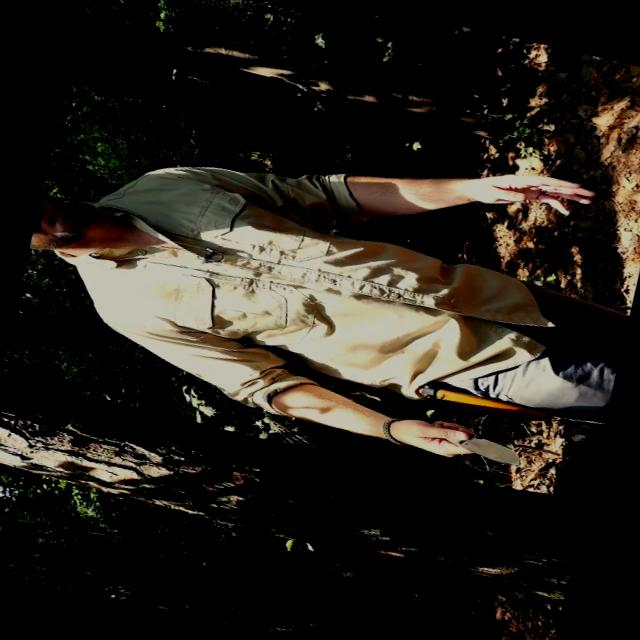knife: (407, 409, 538, 482)
